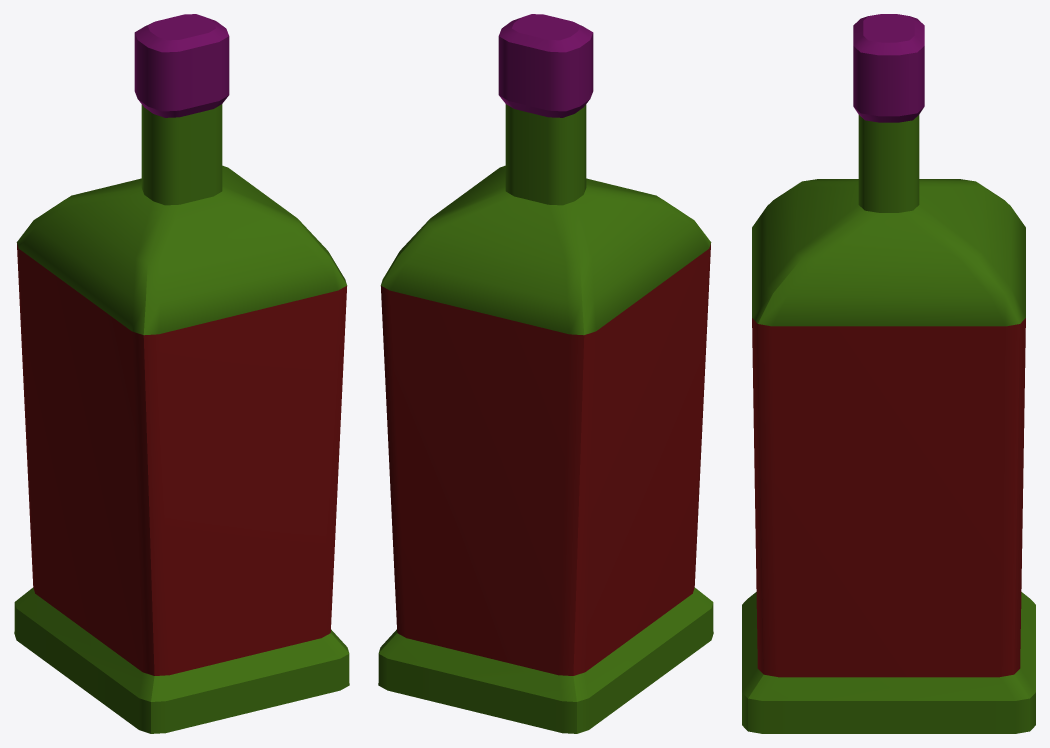
3 views of the same model, side by side, from view 1: azimuth 30°, elevation 25°; view 2: azimuth 150°, elevation 25°; view 3: azimuth 270°, elevation 25° (orthographic). The views are drawn at different scales.
Parts seen in each view (by area): view 1: B5; view 2: B5; view 3: B5.
Part boxes in pixels (x1,y1,x2,y2): B5: [14, 14, 349, 733]; B5: [378, 14, 713, 733]; B5: [742, 14, 1035, 733].
Bounding box in the file's own units: 42.52 × 120 × 49.08.
